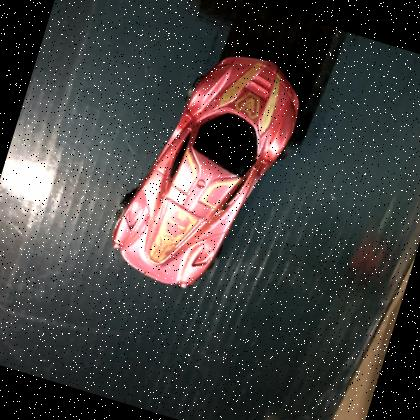Car: (97, 26, 316, 310)
